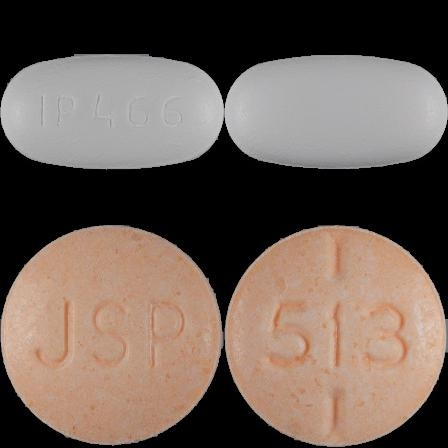51138-039: (0, 0, 224, 224)
